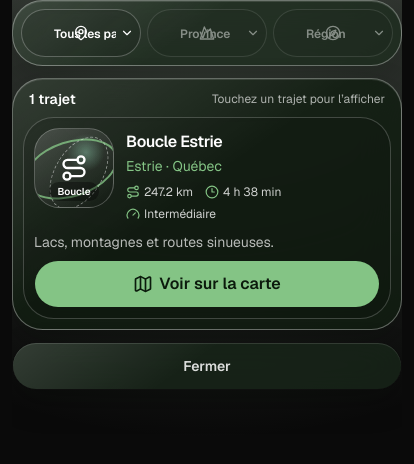
it: RouteCatalogPanel › keeps the list visible when the GPX cannot be downloaded
The image size is (414, 464).
Expected: the text "Boucle Estrie" is shown, [126,131,222,152]
What coordinates should you click on to do the following:
click the button "Voir sur la carte"
I would click on:
 (207, 284)
Its box is [34,260,380,308].
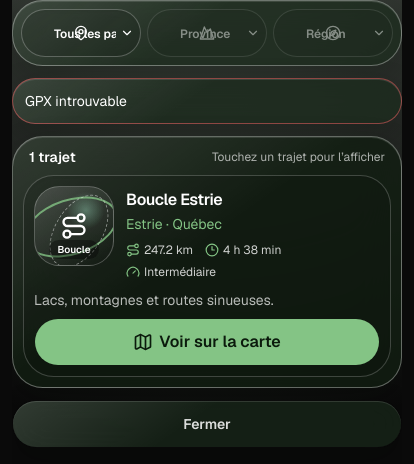
Expected: the list named "Trajets du catalogue" is shown, [23,175,391,377]
Expected: the message reads "GPX introuvable", [25,92,127,110]
